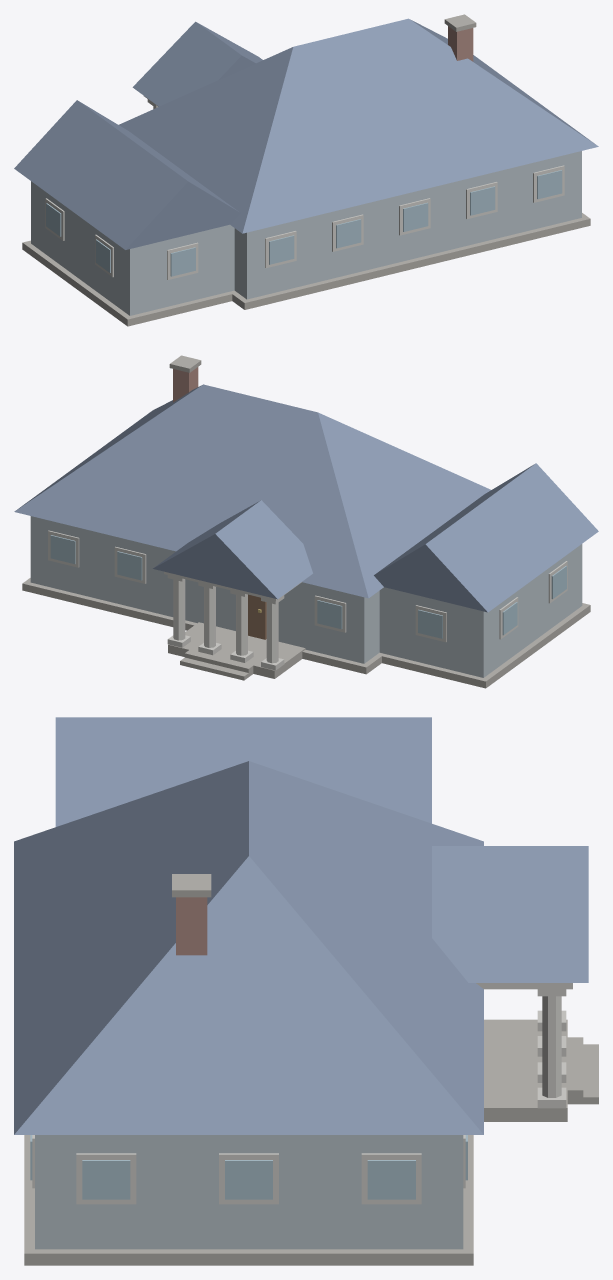
File: casa-n04-3f1ebc46.glb
3 views of the same model, one above another, from view 1: azimuth 30°, elevation 25°; view 2: azimuth 150°, elevation 25°; view 3: azimuth 270°, elevation 25° (orthographic). The views are drawn at different scales.
Bounding box in the file's own units: 17.2 × 6.7 × 11.2.
